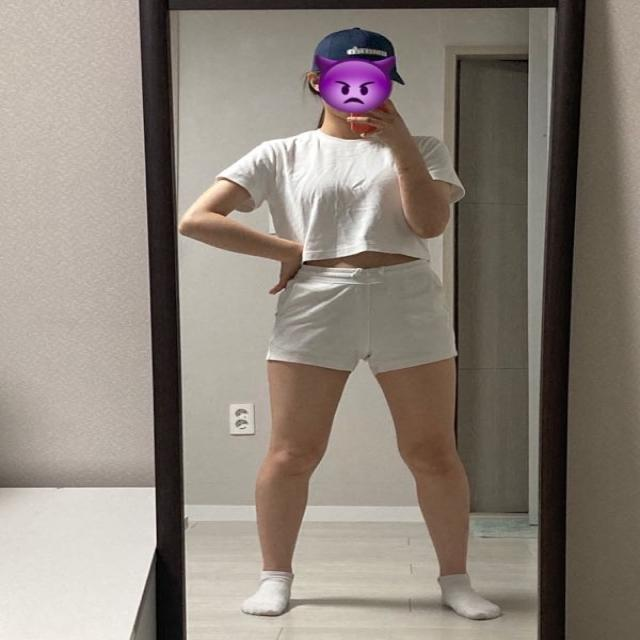shortpants: (263, 263, 460, 375)
shortsleeve: (216, 126, 464, 264)
